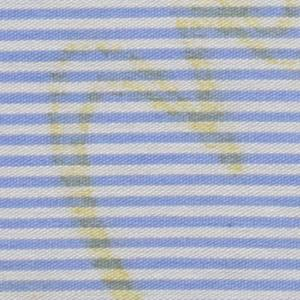Stain: (46, 1, 300, 300)
